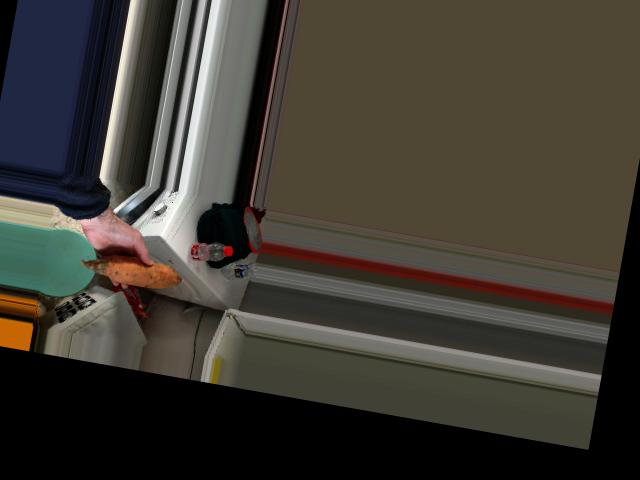sweet_potato: (93, 252, 170, 286)
